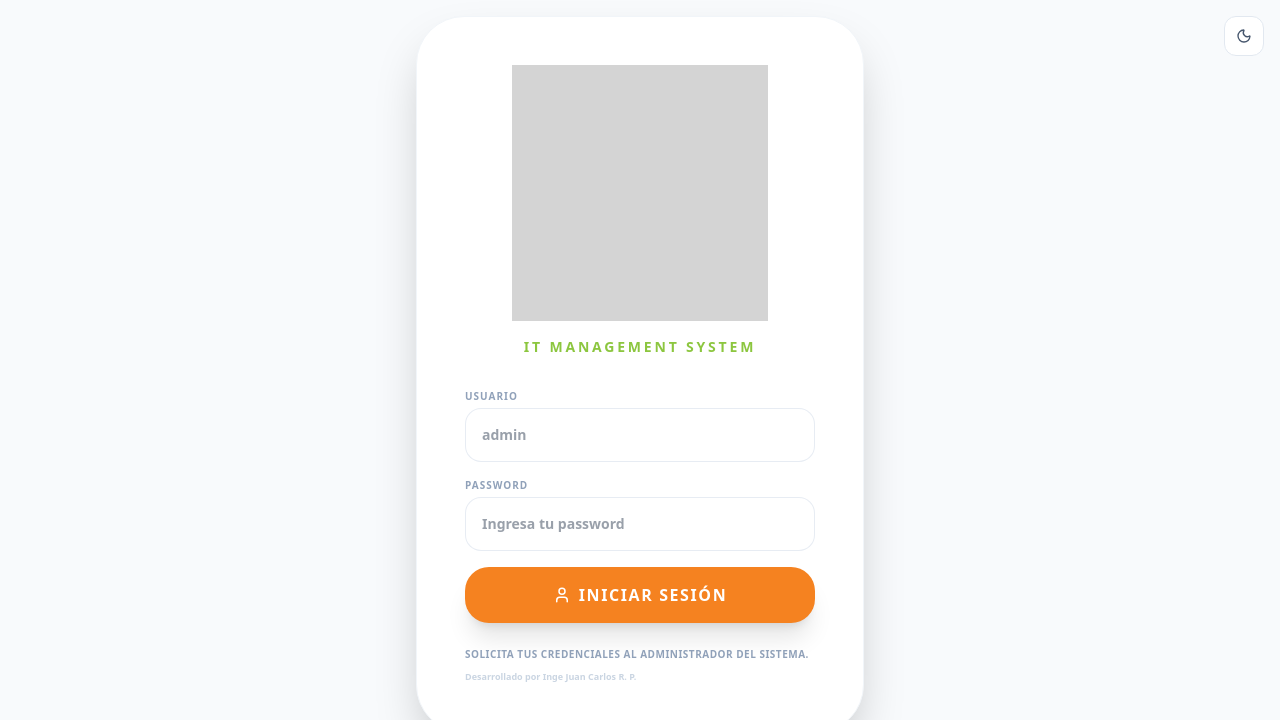
Test: App UI flow › un solicitante entra directo a tickets y no ve navegacion administrativa
Type "solicitante.integration" into the field with placeholder "admin" at (640, 435), box [465,408,815,462]
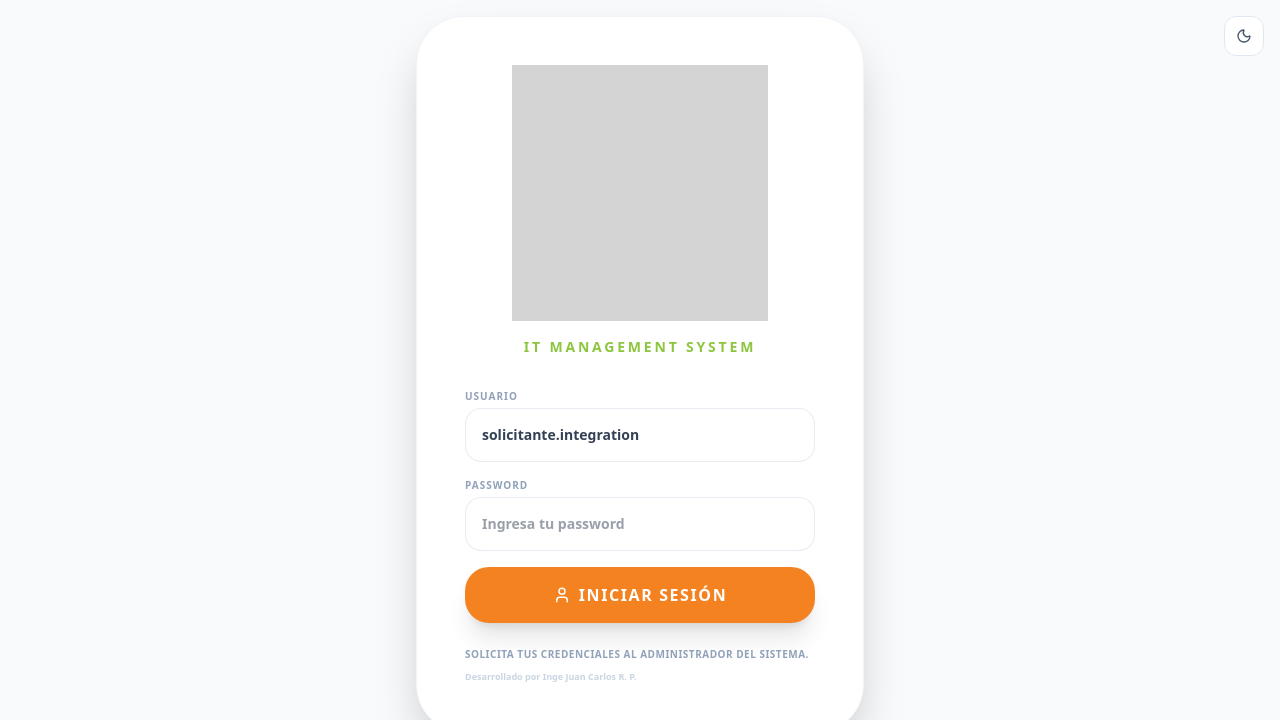
Type "Solicitante.Ui.123" into the password field with placeholder "Ingresa tu password" at (640, 524), box [465,497,815,551]
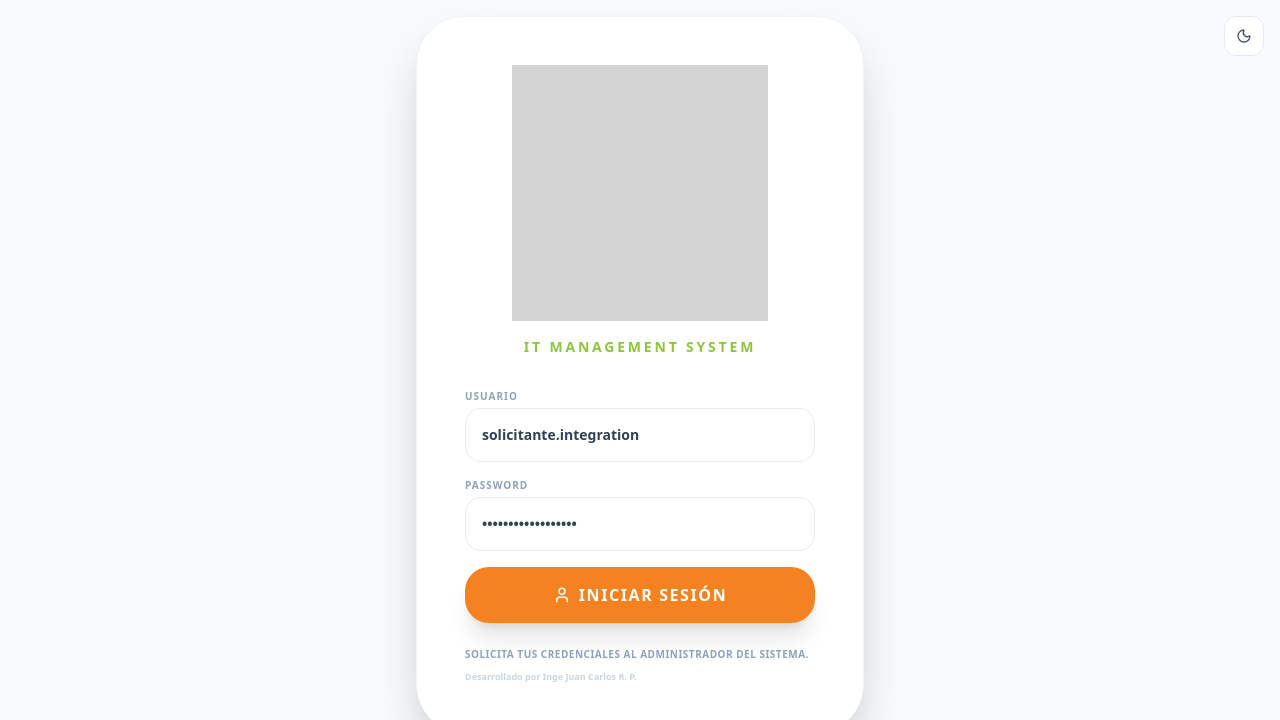
Click the button "Iniciar Sesión" at (640, 595), box [465,567,815,623]
(page scrolled)
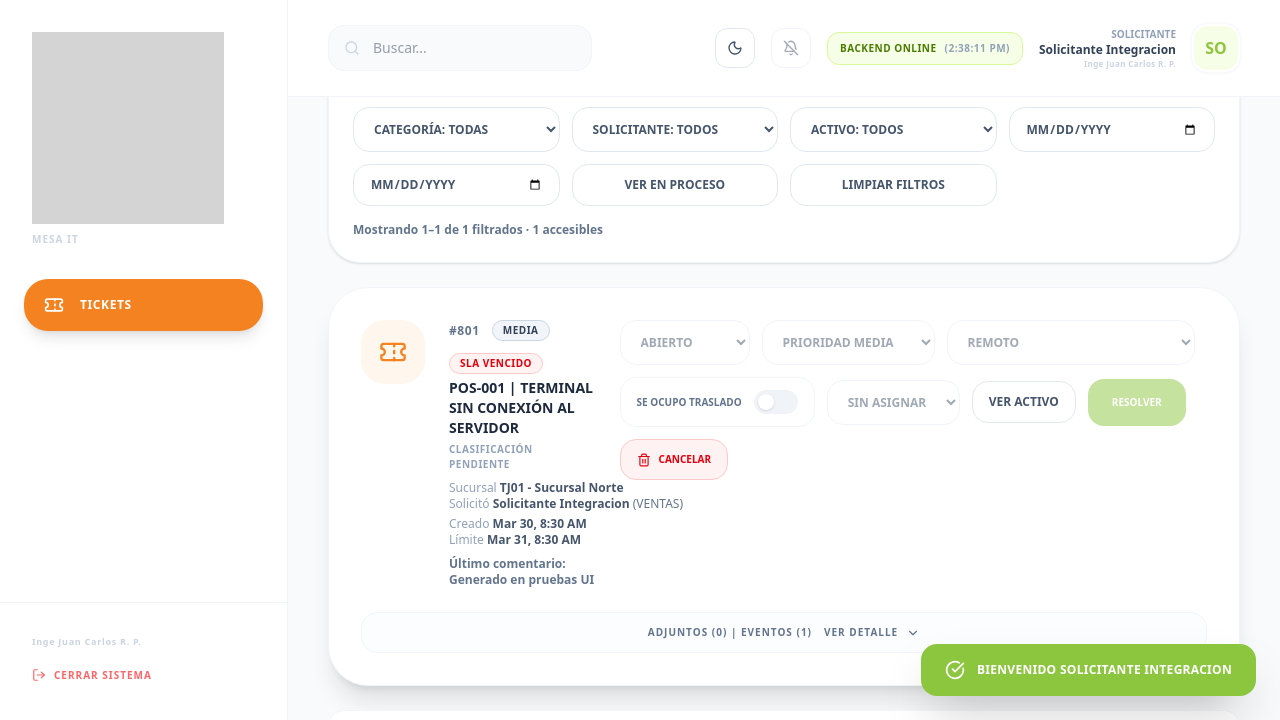
Result: the heading "POS-001 | Terminal sin conexión al servidor" is shown at [449,378,596,438]
